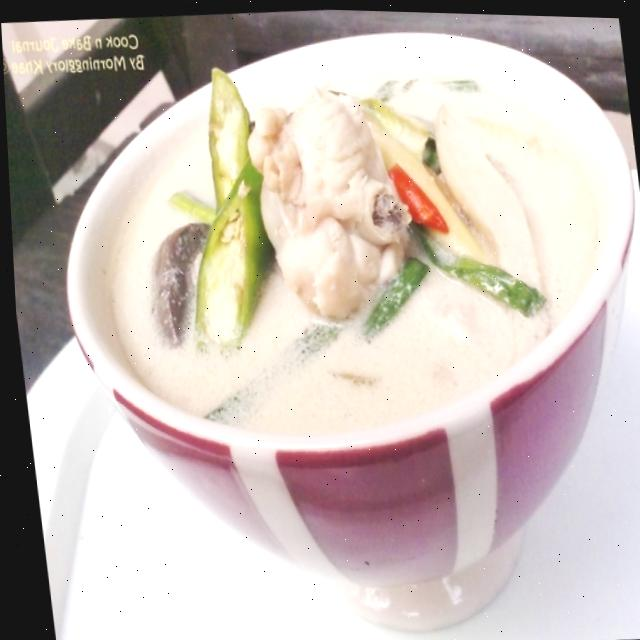汤锅炖物: (46, 11, 619, 490)
